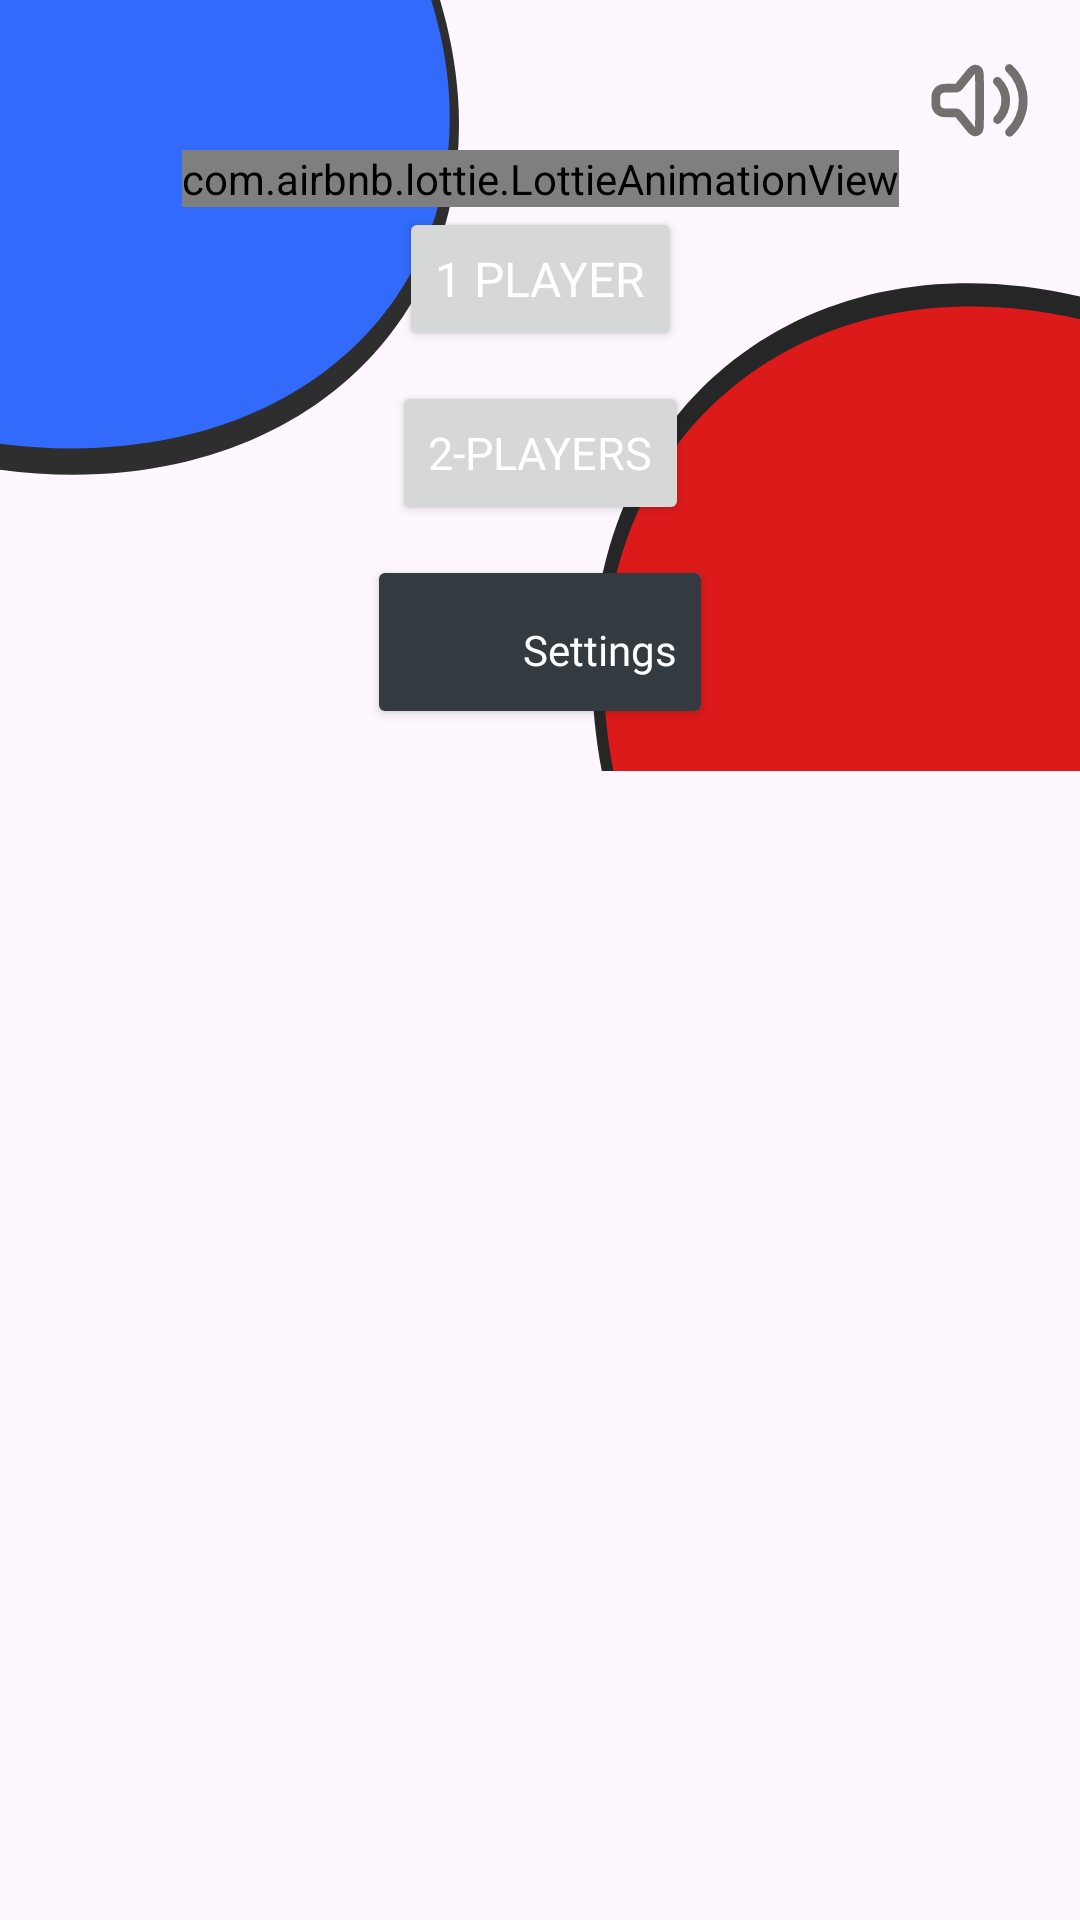

Named icons in this screenshot (1080px×1920px) and their centers, (x,y):
volume max: (979,100)
